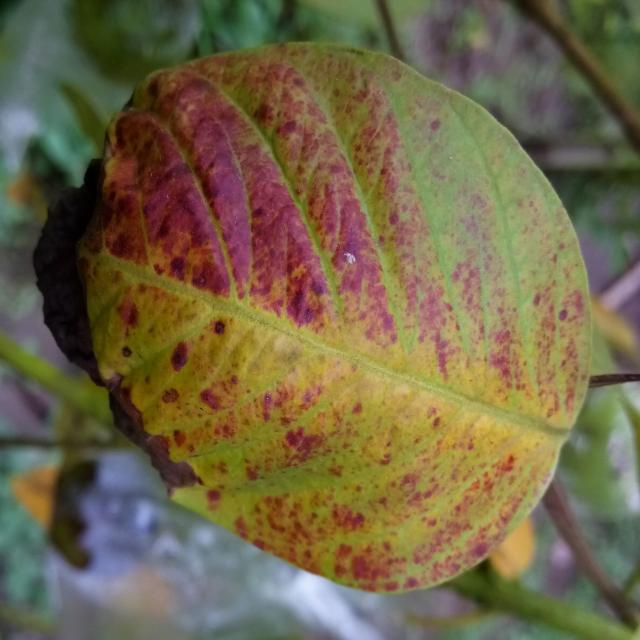Red Rust: (34, 44, 591, 592)
